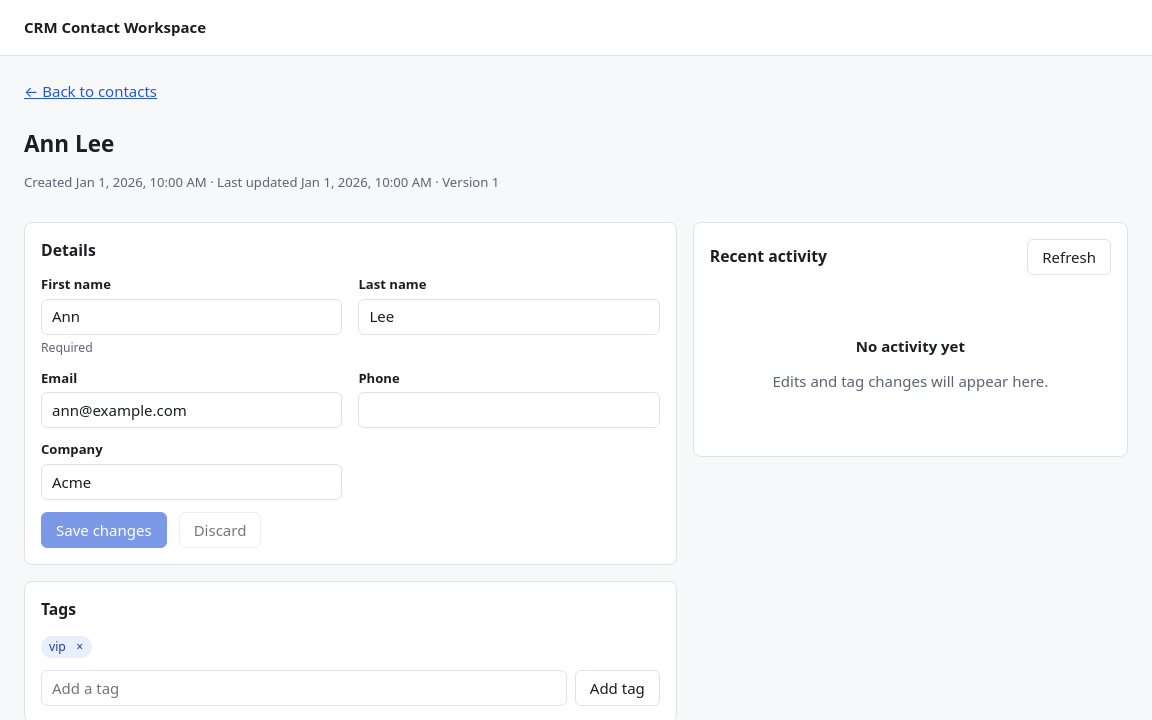
ContactDetailPage — tags › shows the tag-limit error
Check: the heading "Ann Lee" is shown, box x1=24 y1=128 x2=114 y2=158
Type "one-more" into the field named "New tag".
click(304, 688); type("one-more")  # box x1=41 y1=670 x2=567 y2=706
Then press Enter
(page scrolled)
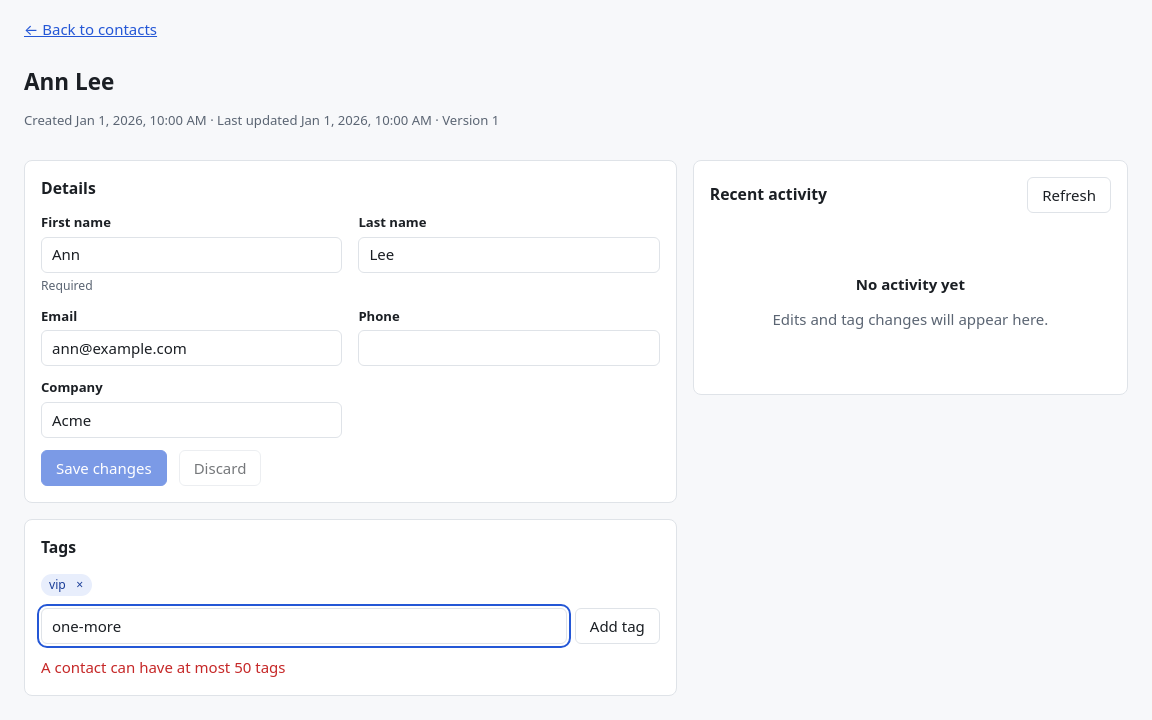
Check: the message reads "A contact can have at most 50 tags", box x1=41 y1=657 x2=286 y2=677
